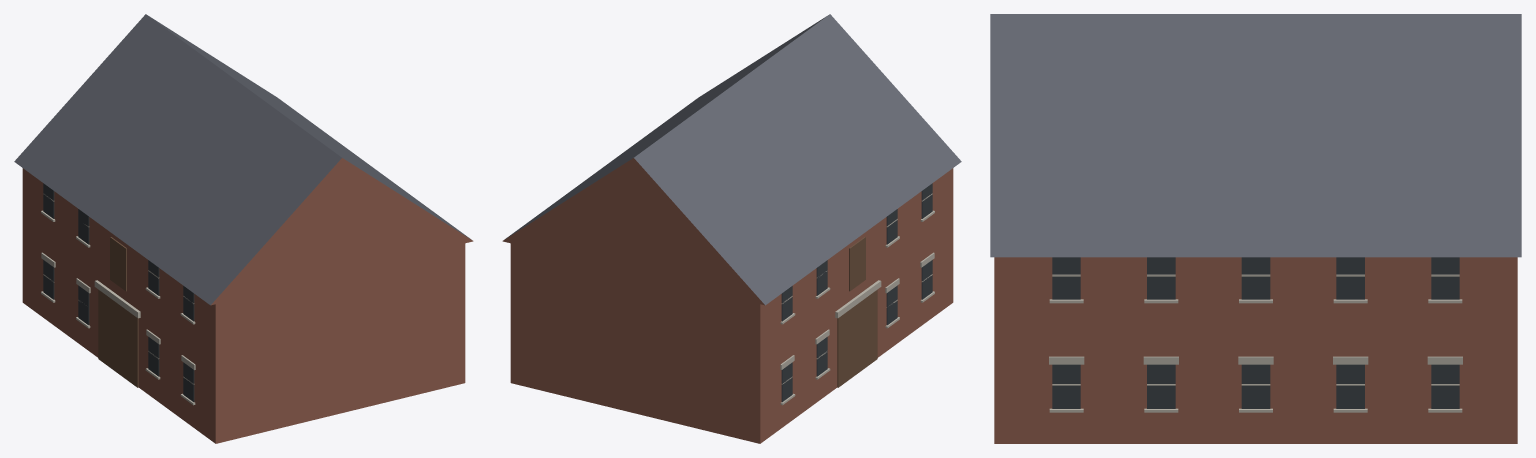
File: house_2100_calumet_coach_house__draft_1904.glb
3 views of the same model, side by side, from view 1: azimuth 30°, elevation 25°; view 2: azimuth 150°, elevation 25°; view 3: azimuth 270°, elevation 25° (orthographic). The views are drawn at different scales.
Parts seen in each view (by area): view 1: house_2100_calumet_coach_house__draft_1904; view 2: house_2100_calumet_coach_house__draft_1904; view 3: house_2100_calumet_coach_house__draft_1904.
Part boxes in pixels (x1=…): house_2100_calumet_coach_house__draft_1904: x1=14, y1=14, x2=473, y2=443; house_2100_calumet_coach_house__draft_1904: x1=502, y1=14, x2=961, y2=443; house_2100_calumet_coach_house__draft_1904: x1=990, y1=14, x2=1521, y2=443.
Size of the model in its own units: 11.6 by 10.81 by 14.99.
